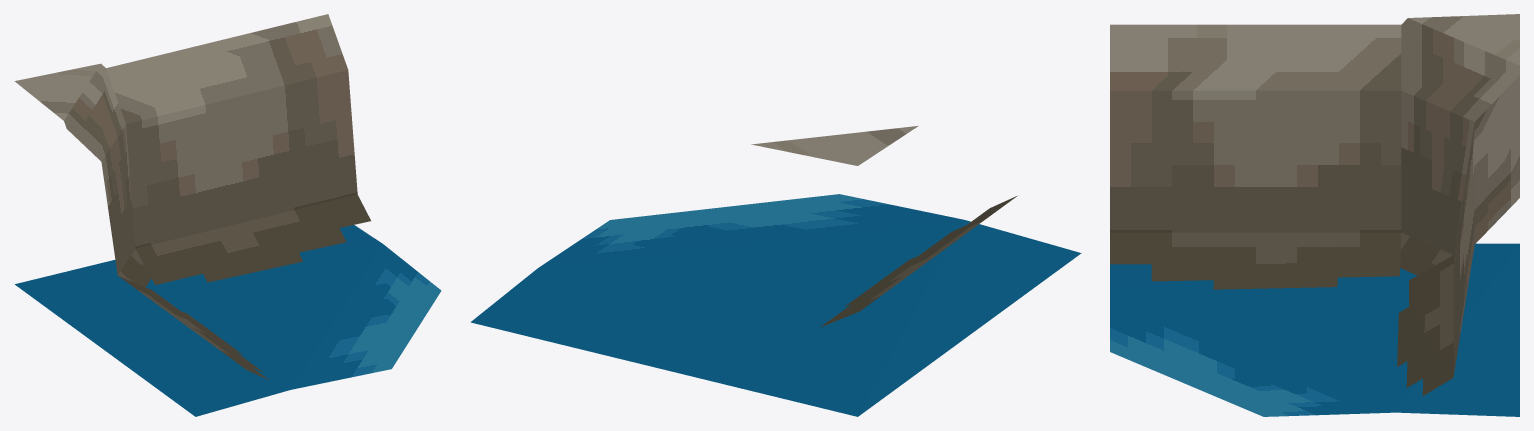
The picture shows the model from 3 angles, left to right: view 1: azimuth 30°, elevation 25°; view 2: azimuth 150°, elevation 25°; view 3: azimuth 270°, elevation 25°; orthographic projection. The views are drawn at different scales.
Size of the model in its own units: 1 by 0.6183 by 1.
Materials: 2 (2 with a texture image).
